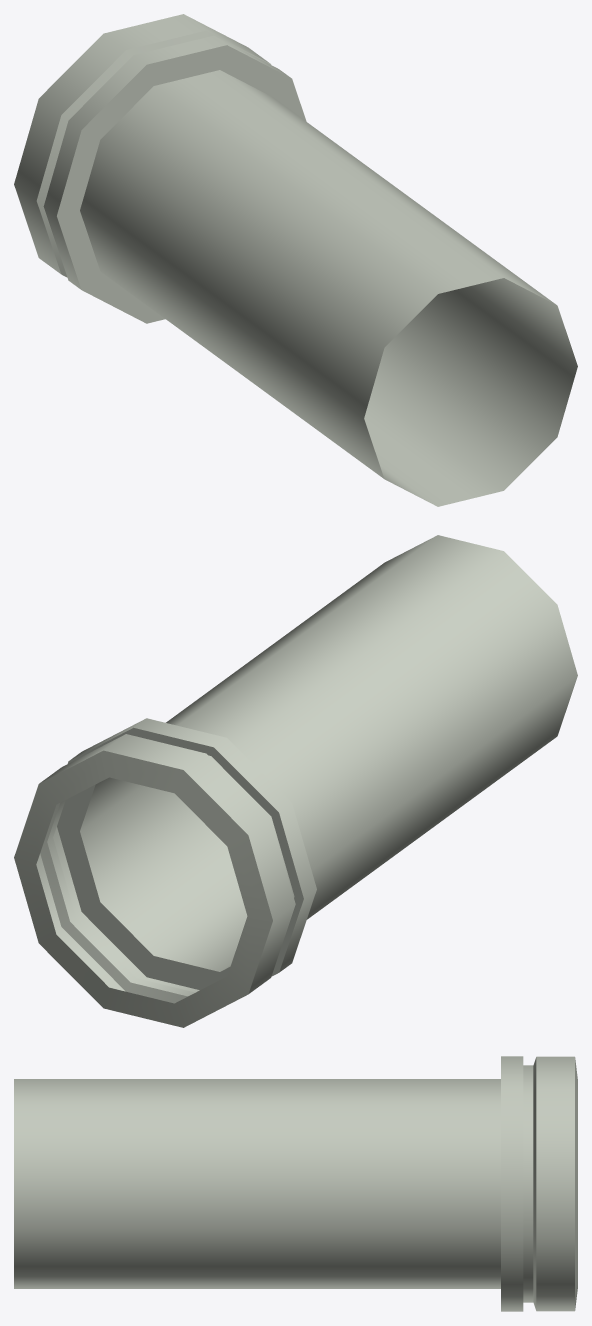
Rendered from SM_pipe_modular_gray_B.fbx.
3 renders of one model, top to bottom at view 1: azimuth 30°, elevation 25°; view 2: azimuth 150°, elevation 25°; view 3: azimuth 270°, elevation 25°, orthographic. The views are drawn at different scales.
Parts seen in each view (by area): view 1: pCylinder86; view 2: pCylinder86; view 3: pCylinder86.
Boxes of the visible parts, left/top/right/bottom form: pCylinder86: left=14, top=14, right=577, bottom=506; pCylinder86: left=14, top=535, right=577, bottom=1027; pCylinder86: left=14, top=1056, right=577, bottom=1311.
Bounding box in the file's own units: 122 × 116 × 267.
